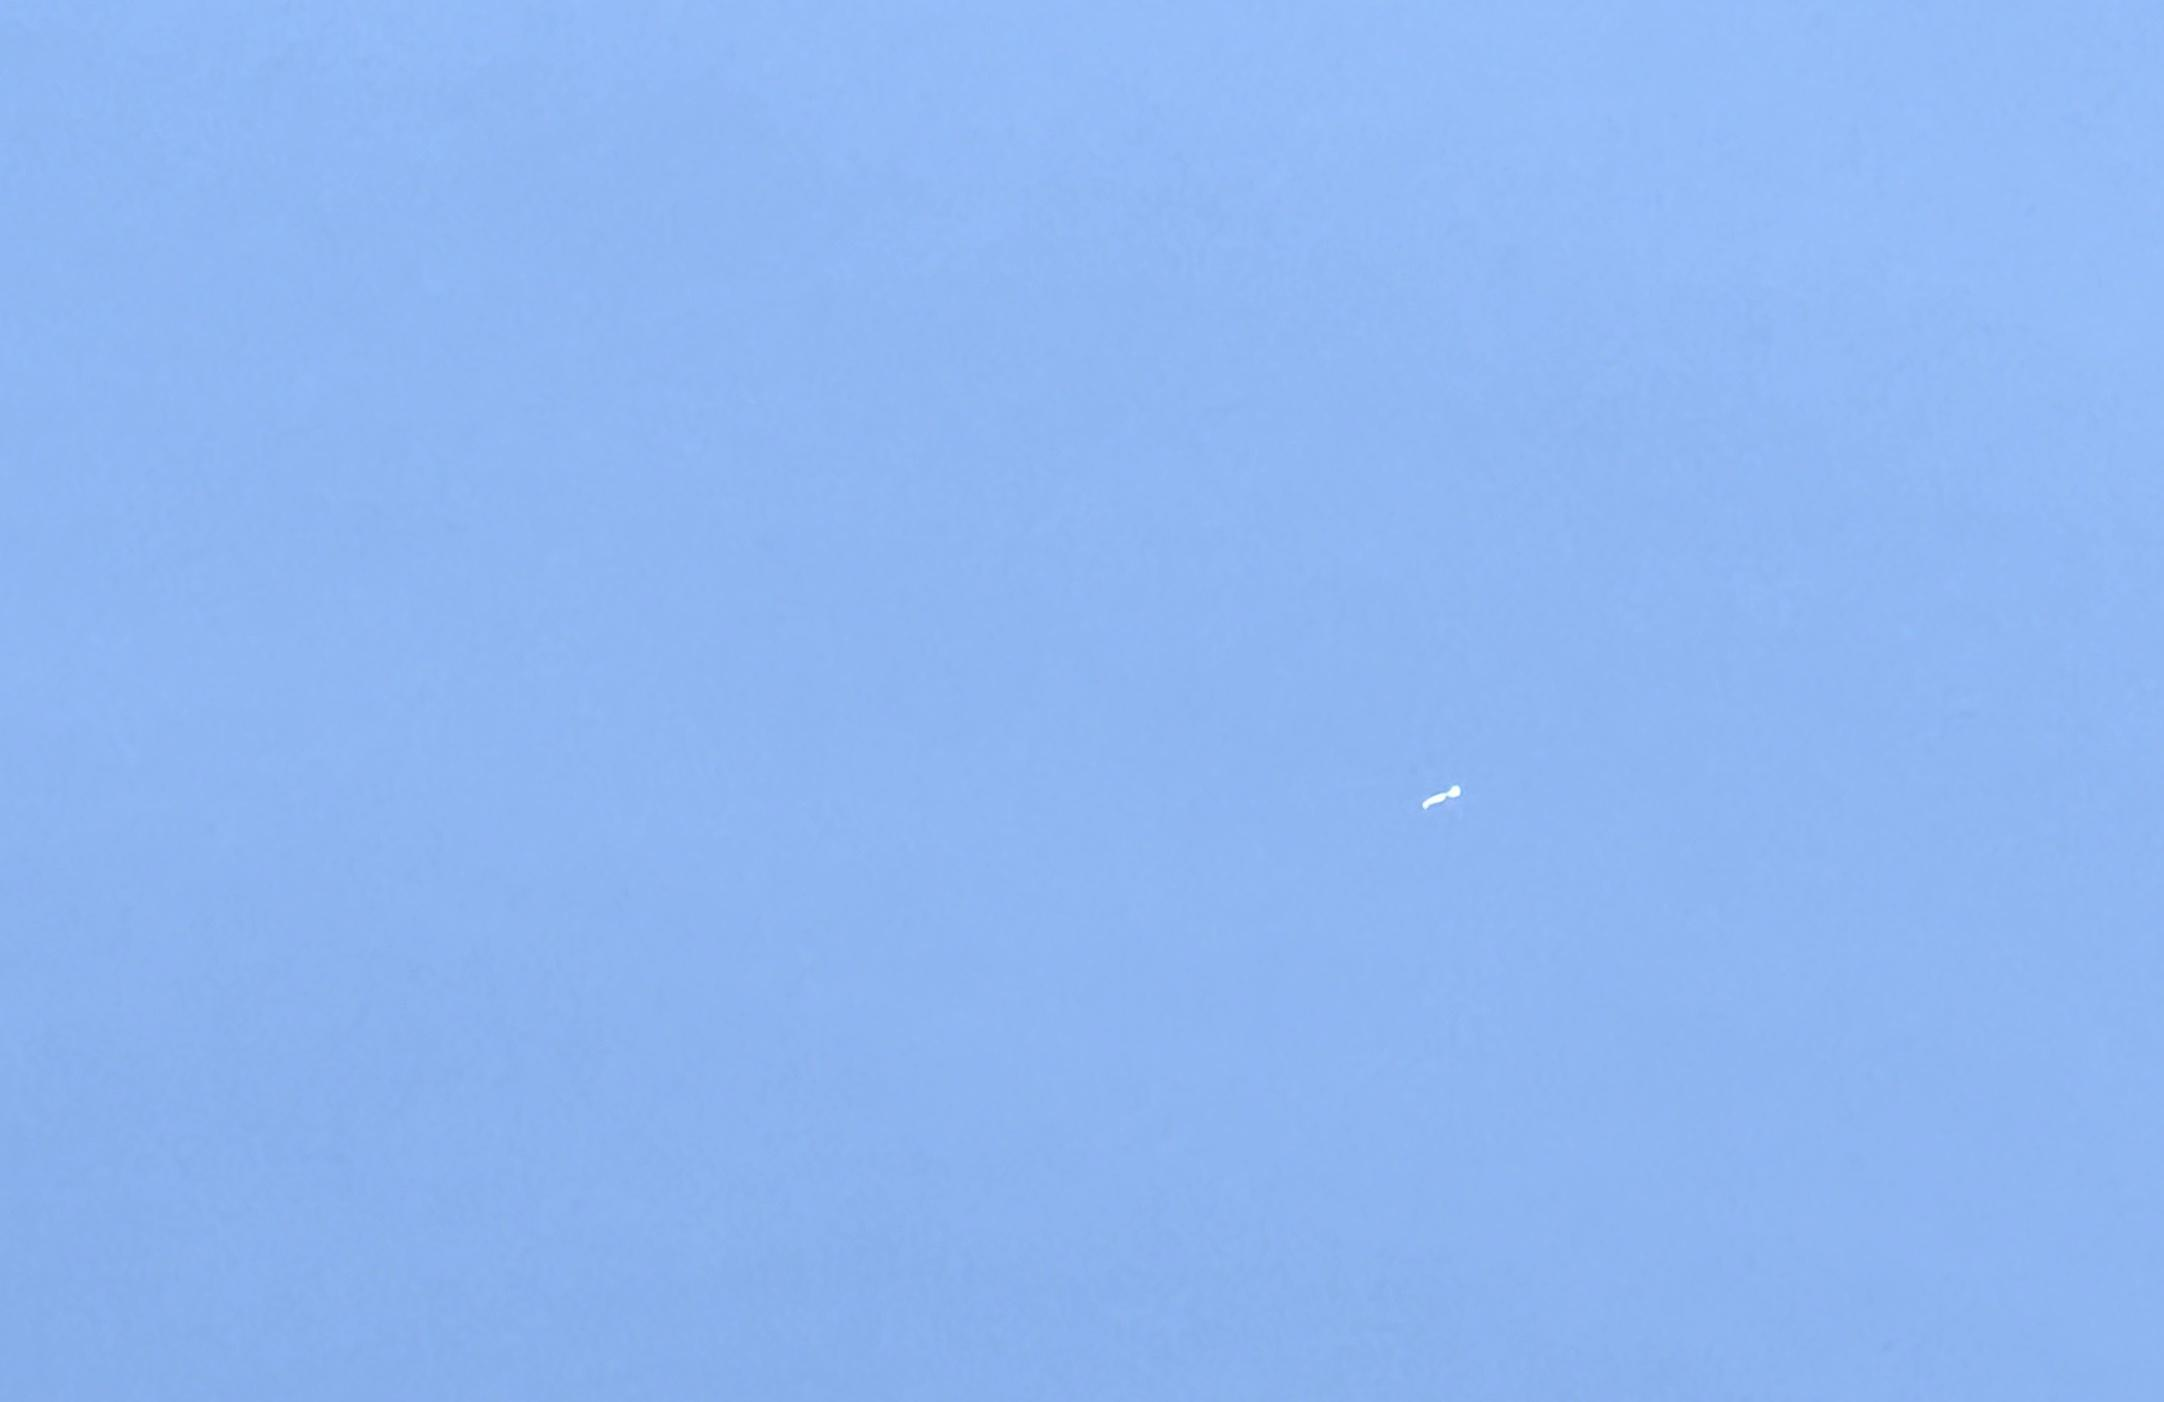Plane: (1416, 773, 1481, 822)
